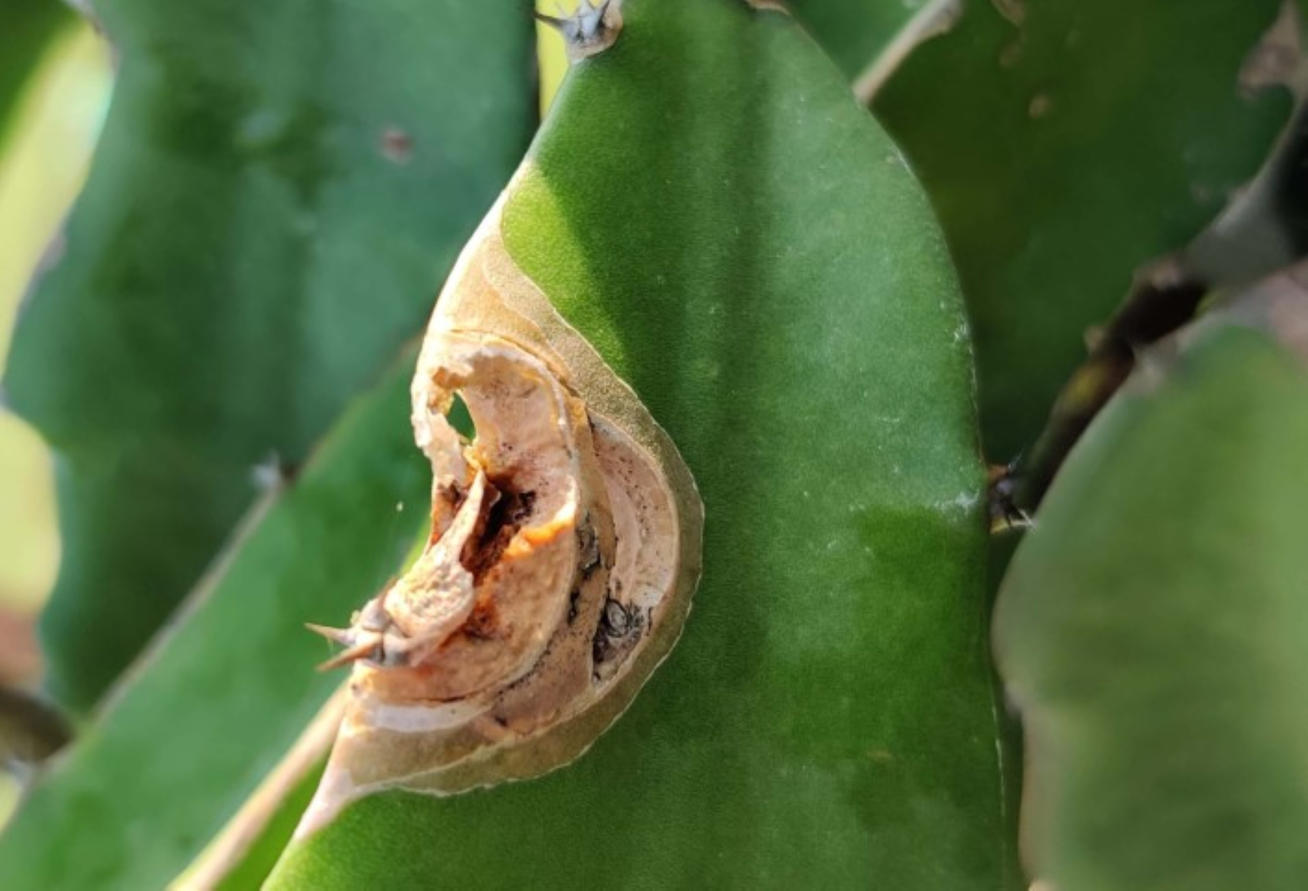stemcanker: (270, 220, 761, 872)
